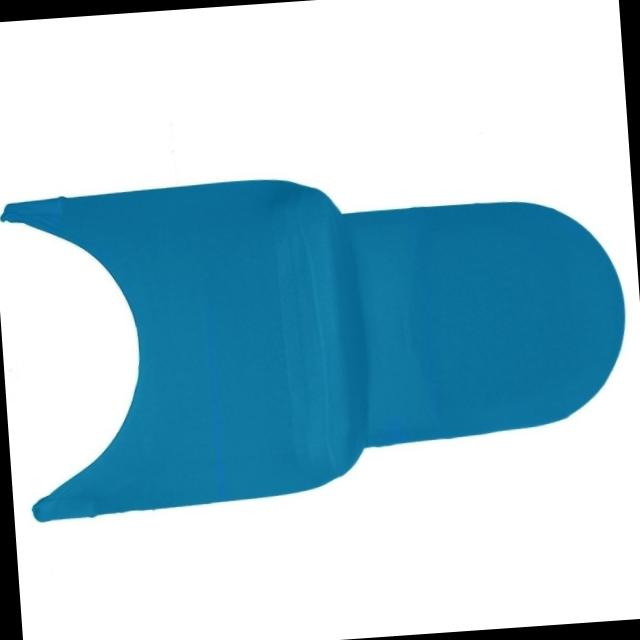Chair: (0, 147, 640, 533)
